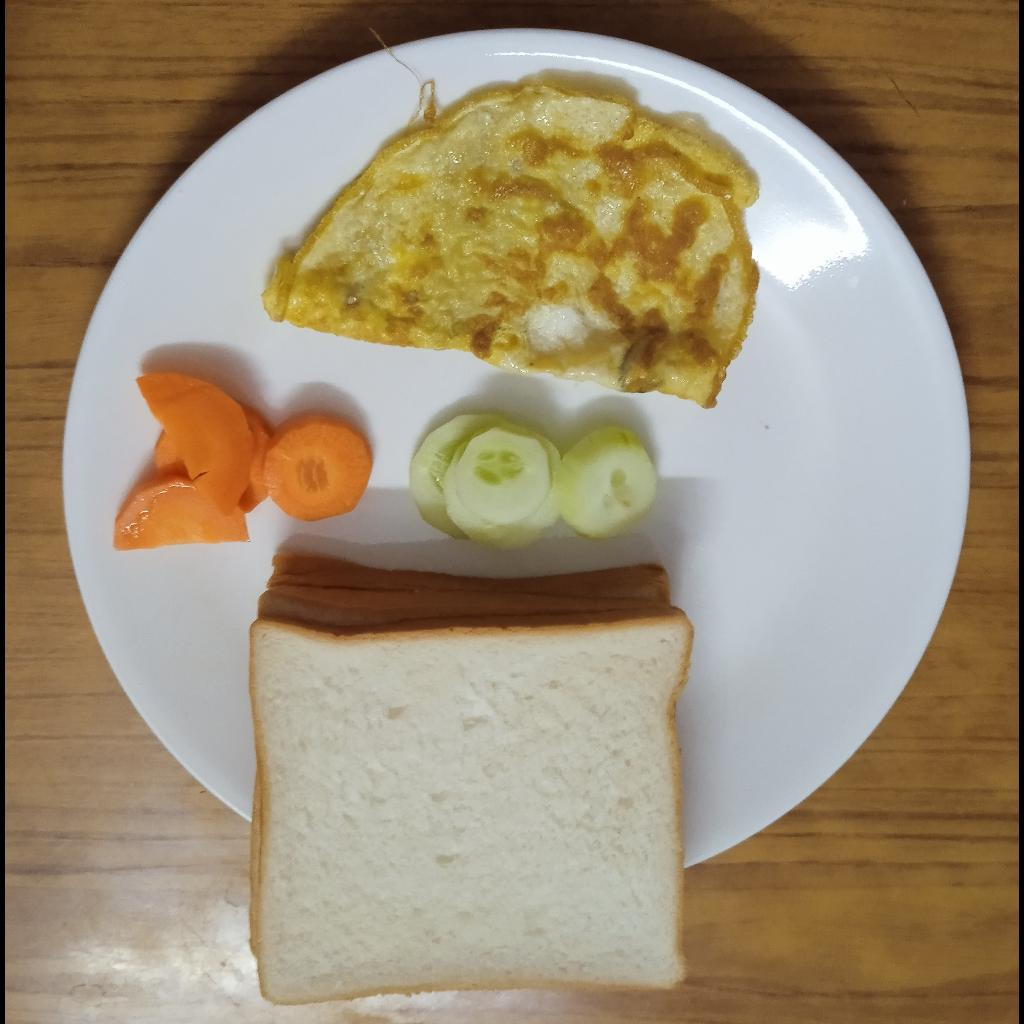bread: (249, 546, 694, 1003)
carrot: (114, 374, 374, 551)
cucumber: (409, 413, 657, 548)
egg-poached: (262, 84, 760, 410)
